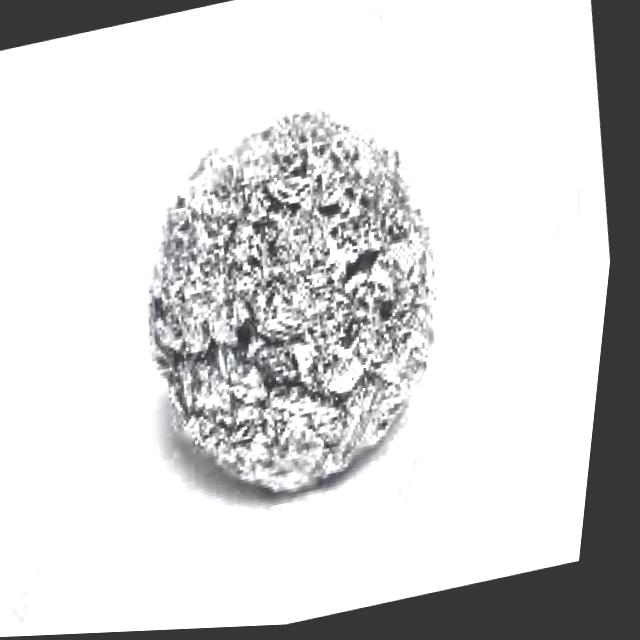Foil: (96, 84, 494, 530)
